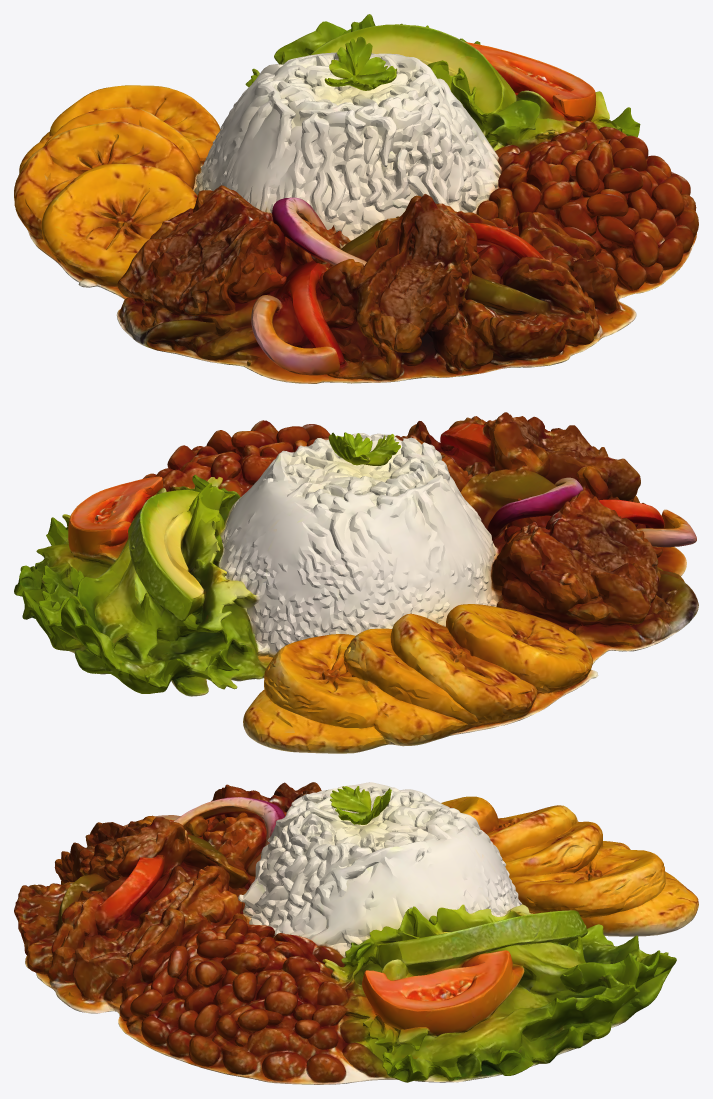
The model's file is la-bandera.glb.
3 renders of one model, top to bottom at view 1: azimuth 30°, elevation 25°; view 2: azimuth 150°, elevation 25°; view 3: azimuth 270°, elevation 25°, orthographic. The views are drawn at different scales.
Parts seen in each view (by area): view 1: model; view 2: model; view 3: model.
Part boxes in pixels (x1=…): model: x1=14, y1=14, x2=698, y2=383; model: x1=14, y1=412, x2=698, y2=753; model: x1=14, y1=782, x2=698, y2=1084.
Bounding box in the file's own units: 1.73 × 0.5256 × 1.9.
1 material, 1 textured.
